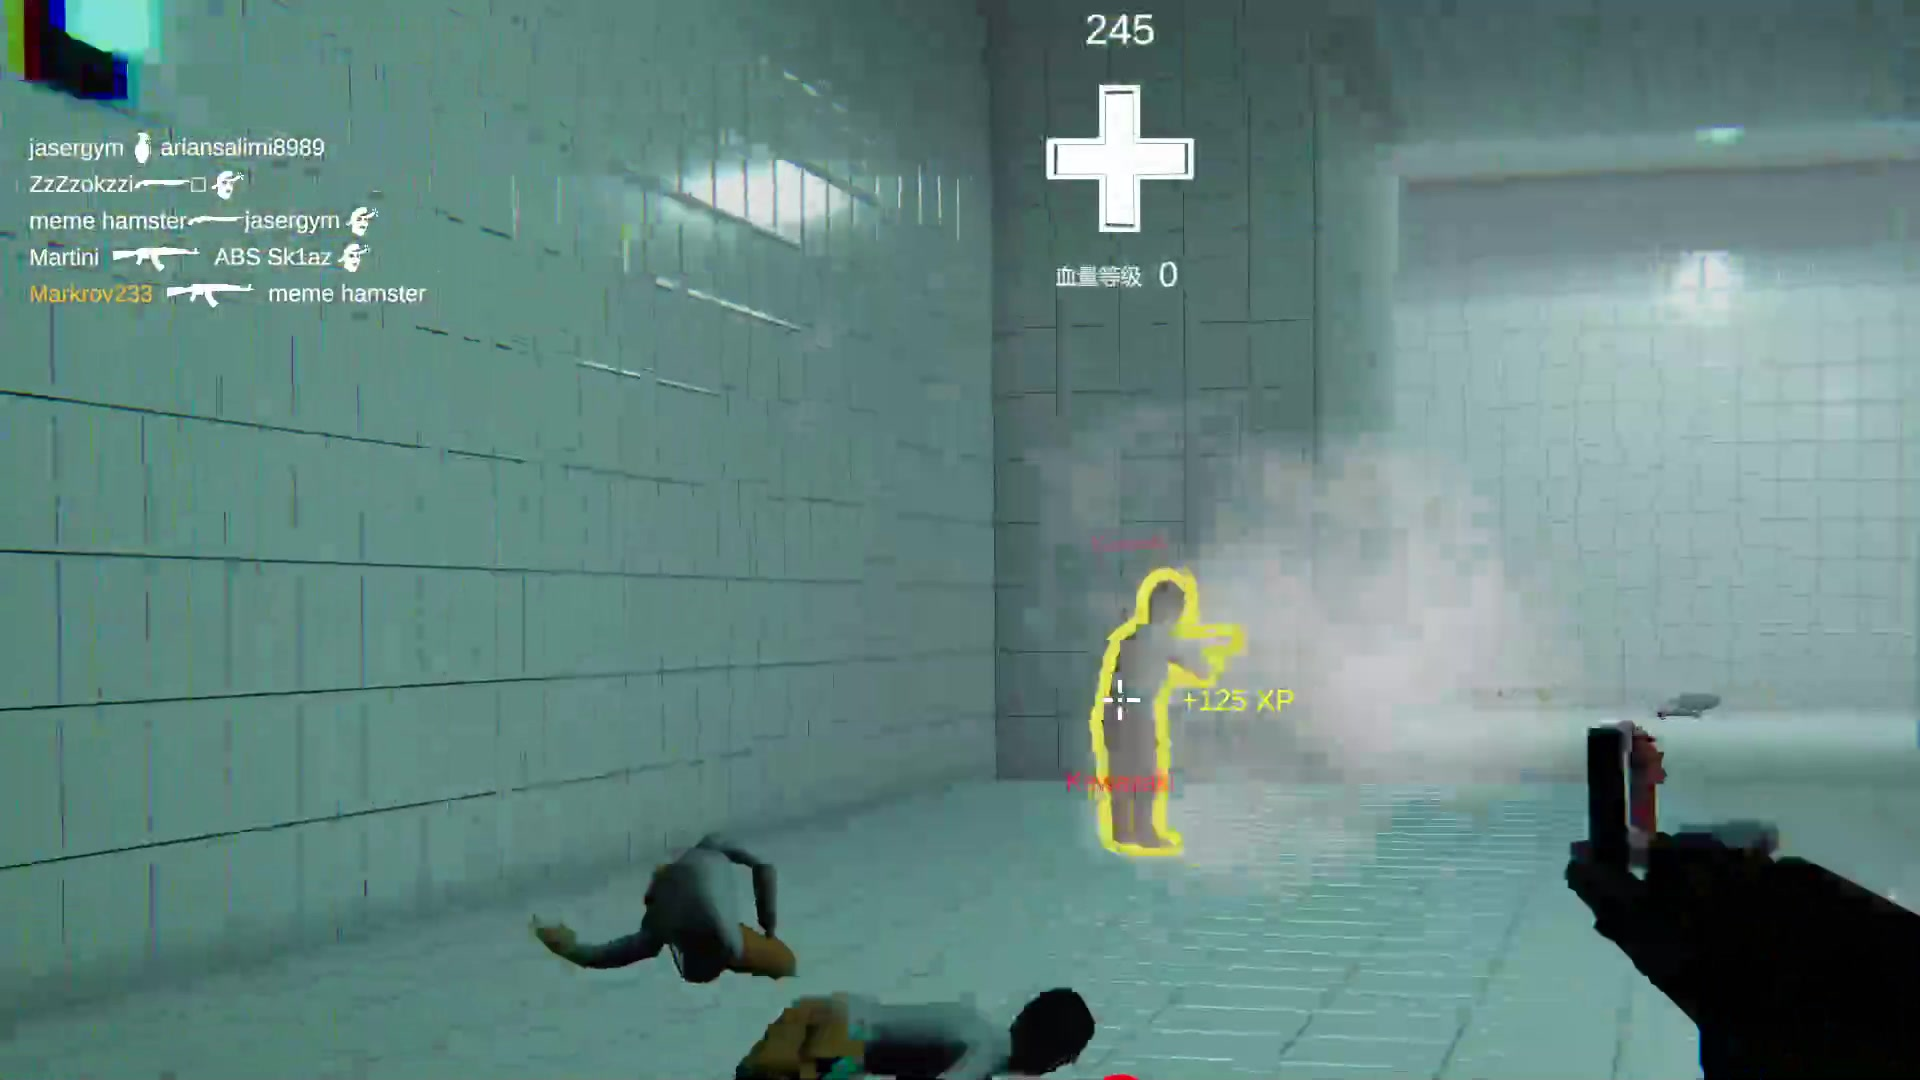human: (1093, 568, 1211, 861)
